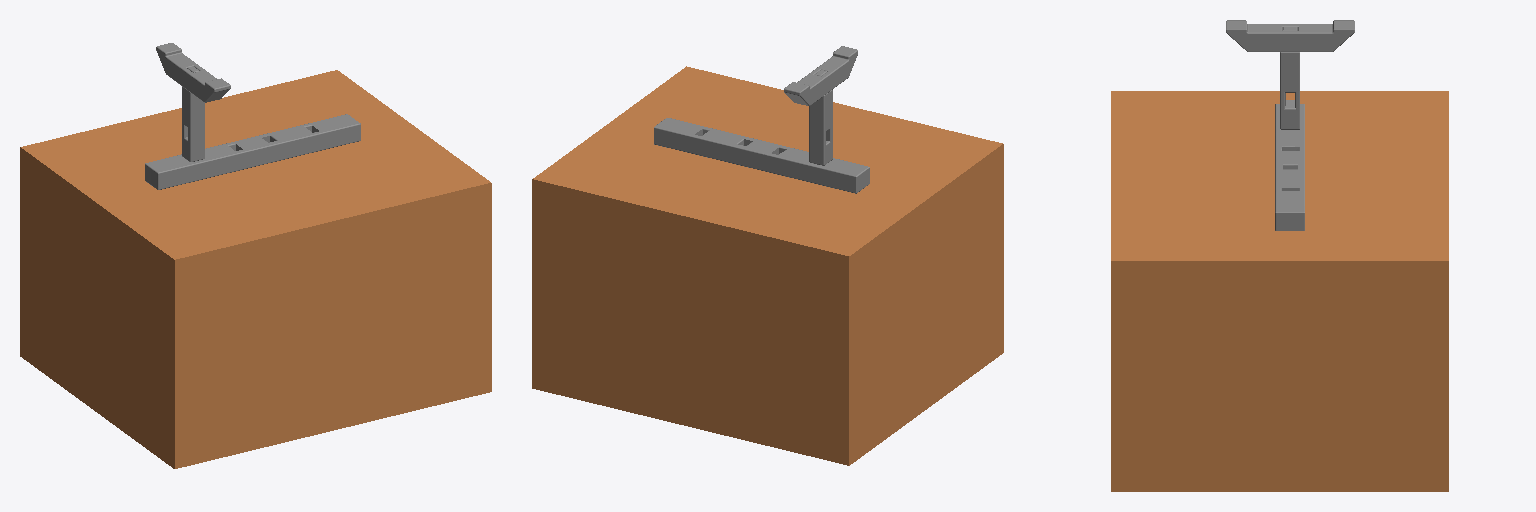
The robot description file, URDF, robot "table_beam_2x_3_scene_0038":
<?xml version="1.0"?>
<robot name="table_beam_2x_3_scene_0038">
  <link name="box">
    <visual>
      <material name="wood"><color rgba="0.82 0.56 0.35 1.0"/></material>
      <origin xyz="0 0 0"/>
      <geometry><box size="0.475 0.4 0.3"/></geometry>
    </visual>
    <collision>
      <origin xyz="0 0 0"/>
      <geometry><box size="0.475 0.4 0.3"/></geometry>
    </collision>
    <inertial>
      <mass value="500"/>
      <friction value="1.0"/>
      <inertia ixx="1000.0" ixy="0.0" ixz="0.0" iyy="1000.0" iyz="0.0" izz="1000.0"/>
    </inertial>
  </link>
  <link name="part_6_hull_0">
    <visual>
      <origin xyz="0 0 0" rpy="0 0 0"/>
      <geometry><mesh filename="../../6/coacd/decomp_0.obj" scale="1 1 1"/></geometry>
      <material name="placed_0"><color rgba="0.6 0.6 0.6 1.0"/></material>
    </visual>
    <collision>
      <origin xyz="0 0 0" rpy="0 0 0"/>
      <geometry><mesh filename="../../6/coacd/decomp_0.obj" scale="1 1 1"/></geometry>
    </collision>
  </link>
  <joint name="part_6_hull_0_joint" type="fixed">
    <parent link="box"/>
    <child link="part_6_hull_0"/>
    <origin xyz="0.002330 0.012209 0.162666" rpy="0.000000 0.000000 0.000000"/>
  </joint>
  <link name="part_6_hull_1">
    <visual>
      <origin xyz="0 0 0" rpy="0 0 0"/>
      <geometry><mesh filename="../../6/coacd/decomp_1.obj" scale="1 1 1"/></geometry>
      <material name="placed_1"><color rgba="0.6 0.6 0.6 1.0"/></material>
    </visual>
    <collision>
      <origin xyz="0 0 0" rpy="0 0 0"/>
      <geometry><mesh filename="../../6/coacd/decomp_1.obj" scale="1 1 1"/></geometry>
    </collision>
  </link>
  <joint name="part_6_hull_1_joint" type="fixed">
    <parent link="box"/>
    <child link="part_6_hull_1"/>
    <origin xyz="0.002330 0.012209 0.162666" rpy="0.000000 0.000000 0.000000"/>
  </joint>
  <link name="part_6_hull_2">
    <visual>
      <origin xyz="0 0 0" rpy="0 0 0"/>
      <geometry><mesh filename="../../6/coacd/decomp_10.obj" scale="1 1 1"/></geometry>
      <material name="placed_2"><color rgba="0.6 0.6 0.6 1.0"/></material>
    </visual>
    <collision>
      <origin xyz="0 0 0" rpy="0 0 0"/>
      <geometry><mesh filename="../../6/coacd/decomp_10.obj" scale="1 1 1"/></geometry>
    </collision>
  </link>
  <joint name="part_6_hull_2_joint" type="fixed">
    <parent link="box"/>
    <child link="part_6_hull_2"/>
    <origin xyz="0.002330 0.012209 0.162666" rpy="0.000000 0.000000 0.000000"/>
  </joint>
  <link name="part_6_hull_3">
    <visual>
      <origin xyz="0 0 0" rpy="0 0 0"/>
      <geometry><mesh filename="../../6/coacd/decomp_11.obj" scale="1 1 1"/></geometry>
      <material name="placed_3"><color rgba="0.6 0.6 0.6 1.0"/></material>
    </visual>
    <collision>
      <origin xyz="0 0 0" rpy="0 0 0"/>
      <geometry><mesh filename="../../6/coacd/decomp_11.obj" scale="1 1 1"/></geometry>
    </collision>
  </link>
  <joint name="part_6_hull_3_joint" type="fixed">
    <parent link="box"/>
    <child link="part_6_hull_3"/>
    <origin xyz="0.002330 0.012209 0.162666" rpy="0.000000 0.000000 0.000000"/>
  </joint>
  <link name="part_6_hull_4">
    <visual>
      <origin xyz="0 0 0" rpy="0 0 0"/>
      <geometry><mesh filename="../../6/coacd/decomp_12.obj" scale="1 1 1"/></geometry>
      <material name="placed_4"><color rgba="0.6 0.6 0.6 1.0"/></material>
    </visual>
    <collision>
      <origin xyz="0 0 0" rpy="0 0 0"/>
      <geometry><mesh filename="../../6/coacd/decomp_12.obj" scale="1 1 1"/></geometry>
    </collision>
  </link>
  <joint name="part_6_hull_4_joint" type="fixed">
    <parent link="box"/>
    <child link="part_6_hull_4"/>
    <origin xyz="0.002330 0.012209 0.162666" rpy="0.000000 0.000000 0.000000"/>
  </joint>
  <link name="part_6_hull_5">
    <visual>
      <origin xyz="0 0 0" rpy="0 0 0"/>
      <geometry><mesh filename="../../6/coacd/decomp_13.obj" scale="1 1 1"/></geometry>
      <material name="placed_5"><color rgba="0.6 0.6 0.6 1.0"/></material>
    </visual>
    <collision>
      <origin xyz="0 0 0" rpy="0 0 0"/>
      <geometry><mesh filename="../../6/coacd/decomp_13.obj" scale="1 1 1"/></geometry>
    </collision>
  </link>
  <joint name="part_6_hull_5_joint" type="fixed">
    <parent link="box"/>
    <child link="part_6_hull_5"/>
    <origin xyz="0.002330 0.012209 0.162666" rpy="0.000000 0.000000 0.000000"/>
  </joint>
  <link name="part_6_hull_6">
    <visual>
      <origin xyz="0 0 0" rpy="0 0 0"/>
      <geometry><mesh filename="../../6/coacd/decomp_2.obj" scale="1 1 1"/></geometry>
      <material name="placed_6"><color rgba="0.6 0.6 0.6 1.0"/></material>
    </visual>
    <collision>
      <origin xyz="0 0 0" rpy="0 0 0"/>
      <geometry><mesh filename="../../6/coacd/decomp_2.obj" scale="1 1 1"/></geometry>
    </collision>
  </link>
  <joint name="part_6_hull_6_joint" type="fixed">
    <parent link="box"/>
    <child link="part_6_hull_6"/>
    <origin xyz="0.002330 0.012209 0.162666" rpy="0.000000 0.000000 0.000000"/>
  </joint>
  <link name="part_6_hull_7">
    <visual>
      <origin xyz="0 0 0" rpy="0 0 0"/>
      <geometry><mesh filename="../../6/coacd/decomp_3.obj" scale="1 1 1"/></geometry>
      <material name="placed_7"><color rgba="0.6 0.6 0.6 1.0"/></material>
    </visual>
    <collision>
      <origin xyz="0 0 0" rpy="0 0 0"/>
      <geometry><mesh filename="../../6/coacd/decomp_3.obj" scale="1 1 1"/></geometry>
    </collision>
  </link>
  <joint name="part_6_hull_7_joint" type="fixed">
    <parent link="box"/>
    <child link="part_6_hull_7"/>
    <origin xyz="0.002330 0.012209 0.162666" rpy="0.000000 0.000000 0.000000"/>
  </joint>
  <link name="part_6_hull_8">
    <visual>
      <origin xyz="0 0 0" rpy="0 0 0"/>
      <geometry><mesh filename="../../6/coacd/decomp_4.obj" scale="1 1 1"/></geometry>
      <material name="placed_8"><color rgba="0.6 0.6 0.6 1.0"/></material>
    </visual>
    <collision>
      <origin xyz="0 0 0" rpy="0 0 0"/>
      <geometry><mesh filename="../../6/coacd/decomp_4.obj" scale="1 1 1"/></geometry>
    </collision>
  </link>
  <joint name="part_6_hull_8_joint" type="fixed">
    <parent link="box"/>
    <child link="part_6_hull_8"/>
    <origin xyz="0.002330 0.012209 0.162666" rpy="0.000000 0.000000 0.000000"/>
  </joint>
  <link name="part_6_hull_9">
    <visual>
      <origin xyz="0 0 0" rpy="0 0 0"/>
      <geometry><mesh filename="../../6/coacd/decomp_5.obj" scale="1 1 1"/></geometry>
      <material name="placed_9"><color rgba="0.6 0.6 0.6 1.0"/></material>
    </visual>
    <collision>
      <origin xyz="0 0 0" rpy="0 0 0"/>
      <geometry><mesh filename="../../6/coacd/decomp_5.obj" scale="1 1 1"/></geometry>
    </collision>
  </link>
  <joint name="part_6_hull_9_joint" type="fixed">
    <parent link="box"/>
    <child link="part_6_hull_9"/>
    <origin xyz="0.002330 0.012209 0.162666" rpy="0.000000 0.000000 0.000000"/>
  </joint>
  <link name="part_6_hull_10">
    <visual>
      <origin xyz="0 0 0" rpy="0 0 0"/>
      <geometry><mesh filename="../../6/coacd/decomp_6.obj" scale="1 1 1"/></geometry>
      <material name="placed_10"><color rgba="0.6 0.6 0.6 1.0"/></material>
    </visual>
    <collision>
      <origin xyz="0 0 0" rpy="0 0 0"/>
      <geometry><mesh filename="../../6/coacd/decomp_6.obj" scale="1 1 1"/></geometry>
    </collision>
  </link>
  <joint name="part_6_hull_10_joint" type="fixed">
    <parent link="box"/>
    <child link="part_6_hull_10"/>
    <origin xyz="0.002330 0.012209 0.162666" rpy="0.000000 0.000000 0.000000"/>
  </joint>
  <link name="part_6_hull_11">
    <visual>
      <origin xyz="0 0 0" rpy="0 0 0"/>
      <geometry><mesh filename="../../6/coacd/decomp_7.obj" scale="1 1 1"/></geometry>
      <material name="placed_11"><color rgba="0.6 0.6 0.6 1.0"/></material>
    </visual>
    <collision>
      <origin xyz="0 0 0" rpy="0 0 0"/>
      <geometry><mesh filename="../../6/coacd/decomp_7.obj" scale="1 1 1"/></geometry>
    </collision>
  </link>
  <joint name="part_6_hull_11_joint" type="fixed">
    <parent link="box"/>
    <child link="part_6_hull_11"/>
    <origin xyz="0.002330 0.012209 0.162666" rpy="0.000000 0.000000 0.000000"/>
  </joint>
  <link name="part_6_hull_12">
    <visual>
      <origin xyz="0 0 0" rpy="0 0 0"/>
      <geometry><mesh filename="../../6/coacd/decomp_8.obj" scale="1 1 1"/></geometry>
      <material name="placed_12"><color rgba="0.6 0.6 0.6 1.0"/></material>
    </visual>
    <collision>
      <origin xyz="0 0 0" rpy="0 0 0"/>
      <geometry><mesh filename="../../6/coacd/decomp_8.obj" scale="1 1 1"/></geometry>
    </collision>
  </link>
  <joint name="part_6_hull_12_joint" type="fixed">
    <parent link="box"/>
    <child link="part_6_hull_12"/>
    <origin xyz="0.002330 0.012209 0.162666" rpy="0.000000 0.000000 0.000000"/>
  </joint>
  <link name="part_6_hull_13">
    <visual>
      <origin xyz="0 0 0" rpy="0 0 0"/>
      <geometry><mesh filename="../../6/coacd/decomp_9.obj" scale="1 1 1"/></geometry>
      <material name="placed_13"><color rgba="0.6 0.6 0.6 1.0"/></material>
    </visual>
    <collision>
      <origin xyz="0 0 0" rpy="0 0 0"/>
      <geometry><mesh filename="../../6/coacd/decomp_9.obj" scale="1 1 1"/></geometry>
    </collision>
  </link>
  <joint name="part_6_hull_13_joint" type="fixed">
    <parent link="box"/>
    <child link="part_6_hull_13"/>
    <origin xyz="0.002330 0.012209 0.162666" rpy="0.000000 0.000000 0.000000"/>
  </joint>
  <link name="part_2_canonical">
    <visual>
      <origin xyz="0 0 0" rpy="0 0 0"/>
      <geometry><mesh filename="../../2/2_canonical.obj" scale="1 1 1"/></geometry>
      <material name="placed_14"><color rgba="0.6 0.6 0.6 1.0"/></material>
    </visual>
    <collision>
      <origin xyz="0 0 0" rpy="0 0 0"/>
      <geometry><mesh filename="../../2/2_canonical.obj" scale="1 1 1"/></geometry>
    </collision>
  </link>
  <joint name="part_2_canonical_joint" type="fixed">
    <parent link="box"/>
    <child link="part_2_canonical"/>
    <origin xyz="-0.086597 0.012209 0.225384" rpy="0.000000 -1.570796 0.000000"/>
  </joint>
  <link name="part_0_canonical">
    <visual>
      <origin xyz="0 0 0" rpy="0 0 0"/>
      <geometry><mesh filename="../../0/0_canonical.obj" scale="1 1 1"/></geometry>
      <material name="placed_15"><color rgba="0.6 0.6 0.6 1.0"/></material>
    </visual>
    <collision>
      <origin xyz="0 0 0" rpy="0 0 0"/>
      <geometry><mesh filename="../../0/0_canonical.obj" scale="1 1 1"/></geometry>
    </collision>
  </link>
  <joint name="part_0_canonical_joint" type="fixed">
    <parent link="box"/>
    <child link="part_0_canonical"/>
    <origin xyz="-0.086570 0.012209 0.292243" rpy="1.570796 0.000000 -1.570796"/>
  </joint>
</robot>

--- What the picture shows (computed from the rendered views, not written in the file) ---
Views: 3 orthographic renders of the robot side by side, from view 1: azimuth 30°, elevation 25°; view 2: azimuth 150°, elevation 25°; view 3: azimuth 270°, elevation 25°.
Robot: table_beam_2x_3_scene_0038 — 17 links, 16 joints (16 fixed); root link box; default pose: all joints at 0.
Links seen in each view (by area): view 1: box, part_0_canonical, part_2_canonical, part_6_hull_1, part_6_hull_0, part_6_hull_9, part_6_hull_3, part_6_hull_5; view 2: box, part_0_canonical, part_2_canonical, part_6_hull_1, part_6_hull_0, part_6_hull_2, part_6_hull_5, part_6_hull_12; view 3: box, part_0_canonical, part_2_canonical, part_6_hull_0.
Boxes of the visible links, x1=… form: box: x1=20, y1=70, x2=491, y2=468; part_0_canonical: x1=156, y1=43, x2=230, y2=102; part_2_canonical: x1=182, y1=67, x2=204, y2=161; part_6_hull_1: x1=145, y1=154, x2=196, y2=189; part_6_hull_0: x1=310, y1=114, x2=360, y2=149; part_6_hull_9: x1=195, y1=150, x2=245, y2=180; part_6_hull_3: x1=247, y1=139, x2=288, y2=167; part_6_hull_5: x1=276, y1=125, x2=314, y2=157; box: x1=532, y1=66, x2=1003, y2=465; part_0_canonical: x1=784, y1=46, x2=857, y2=105; part_2_canonical: x1=809, y1=70, x2=832, y2=165; part_6_hull_1: x1=818, y1=158, x2=869, y2=193; part_6_hull_0: x1=654, y1=118, x2=703, y2=153; part_6_hull_2: x1=775, y1=150, x2=813, y2=182; part_6_hull_5: x1=699, y1=128, x2=737, y2=161; part_6_hull_12: x1=726, y1=142, x2=766, y2=170; box: x1=1111, y1=91, x2=1448, y2=491; part_0_canonical: x1=1226, y1=20, x2=1354, y2=51; part_2_canonical: x1=1280, y1=27, x2=1299, y2=129; part_6_hull_0: x1=1275, y1=191, x2=1304, y2=230.
Size in the robot's own frame: 0.475 by 0.4 by 0.4575 metres.
Meshes: 16 distinct files referenced, 16 mesh visuals loaded (16 OBJ).
